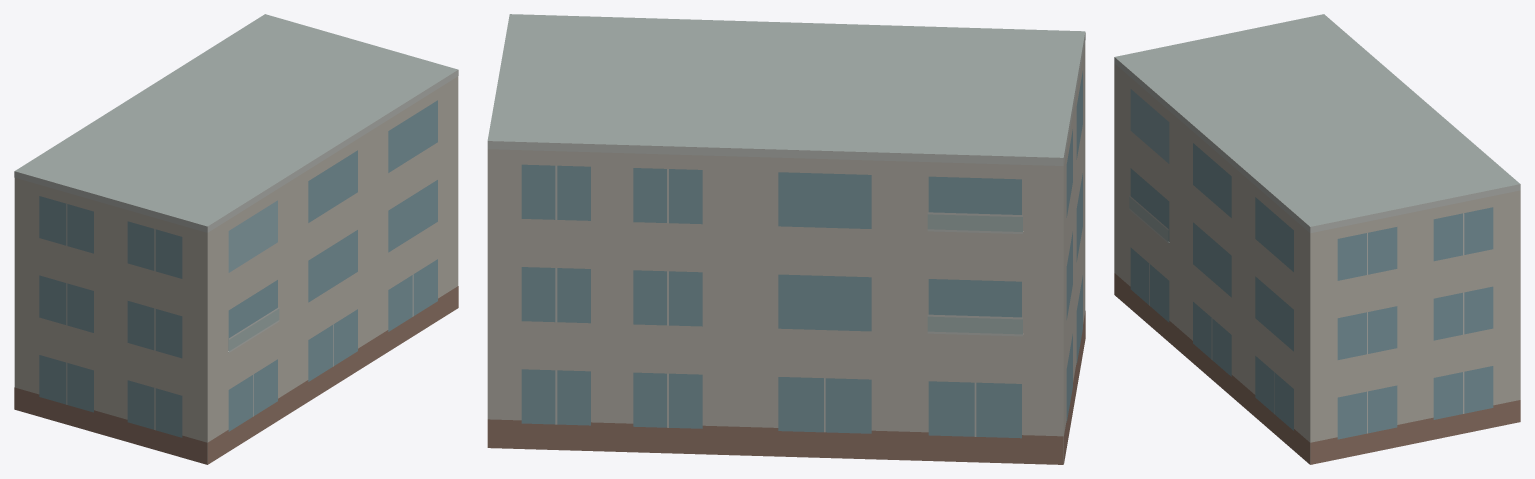
Rendered from survey-upis-32704806.glb.
The picture shows the model from 3 angles, left to right: view 1: azimuth 30°, elevation 25°; view 2: azimuth 150°, elevation 25°; view 3: azimuth 270°, elevation 25°; orthographic projection. The views are drawn at different scales.
Parts seen in each view (by area): view 1: survey-upis-32704806.tmp; view 2: survey-upis-32704806.tmp; view 3: survey-upis-32704806.tmp.
Boxes of the visible parts, x1=… form: survey-upis-32704806.tmp: x1=14, y1=14, x2=458, y2=464; survey-upis-32704806.tmp: x1=487, y1=14, x2=1085, y2=464; survey-upis-32704806.tmp: x1=1114, y1=14, x2=1520, y2=464.
Size of the model in its own units: 17.57 by 9.15 by 14.16.
